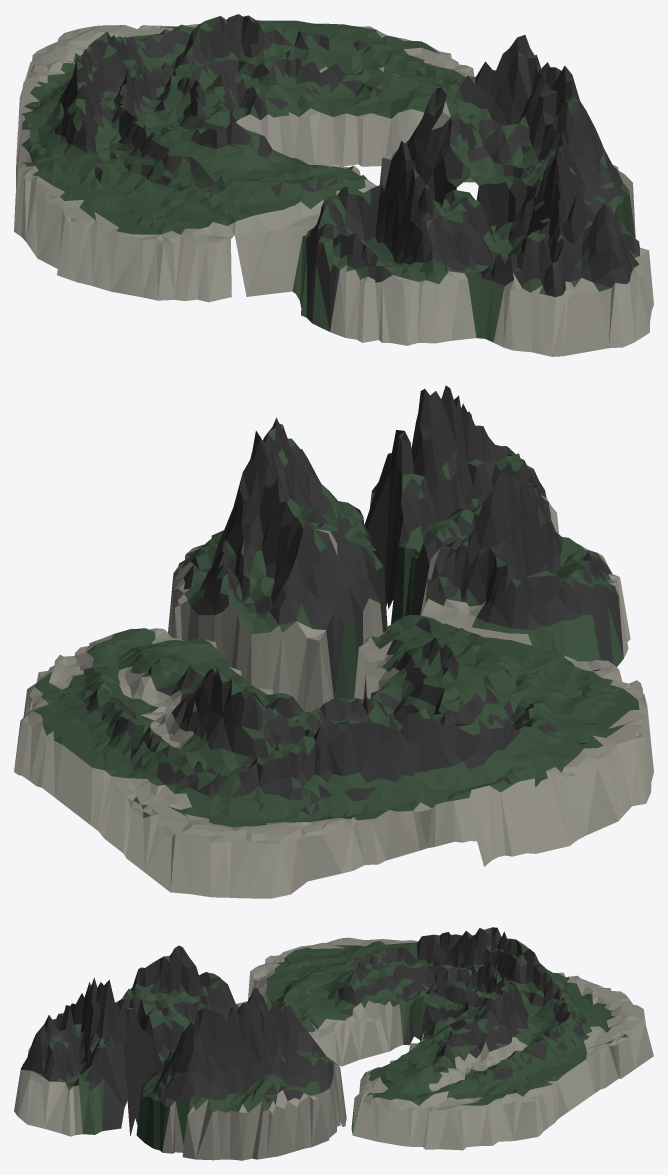
Rendered from rock08.fbx.
The picture shows the model from 3 angles, top to bottom: view 1: azimuth 30°, elevation 25°; view 2: azimuth 150°, elevation 25°; view 3: azimuth 270°, elevation 25°; orthographic projection. The views are drawn at different scales.
Parts seen in each view (by area): view 1: island003.002; view 2: island003.002; view 3: island003.002.
Boxes of the visible parts, left/top/right/bottom form: island003.002: left=14, top=14, right=653, bottom=356; island003.002: left=14, top=385, right=653, bottom=898; island003.002: left=14, top=927, right=653, bottom=1160.
Size of the model in its own units: 8.11 by 5.48 by 2.3.
